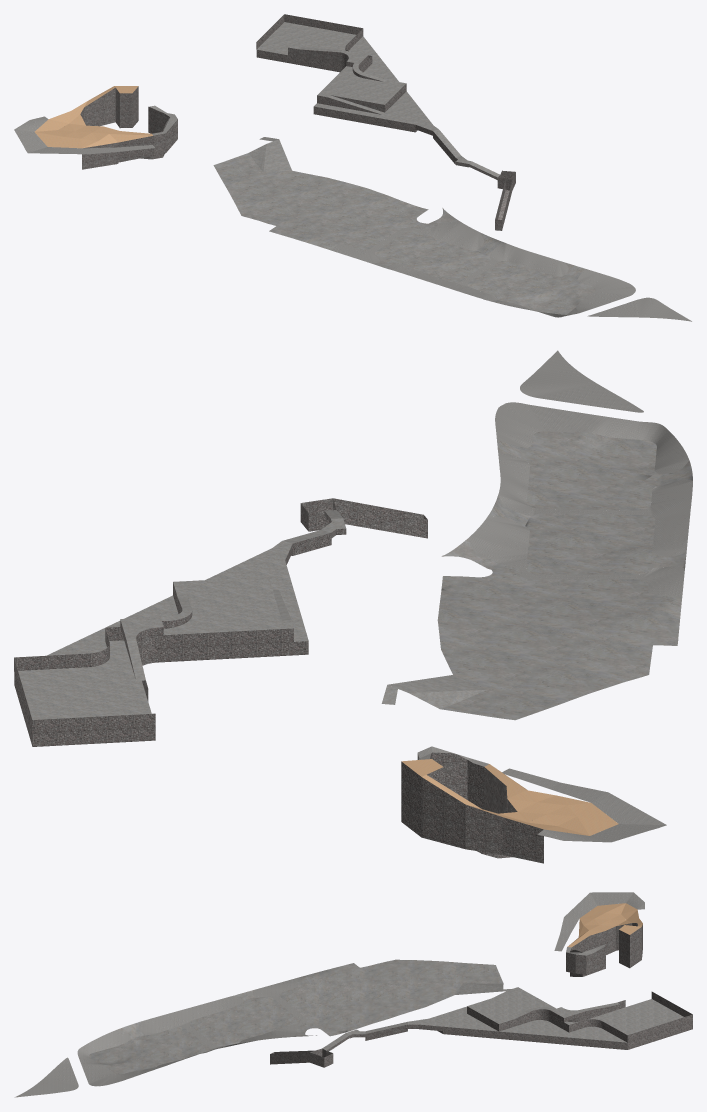
The picture shows the model from 3 angles, top to bottom: view 1: azimuth 30°, elevation 25°; view 2: azimuth 150°, elevation 25°; view 3: azimuth 270°, elevation 25°; orthographic projection. The views are drawn at different scales.
Visible parts, largest first — view 1: LXZ81002 (×2), LXZ81003 (×2), _9101cd0195, LXZ81001, _9101cd0269; view 2: LXZ81002 (×2), LXZ81003 (×2), _9101cd0195, LXZ81001, _9101cd0269; view 3: LXZ81002 (×2), LXZ81003 (×2), _9101cd0195, LXZ81001, _9101cd0269.
Part boxes in pixels (box(x1,y1,x2,y2)): LXZ81002 (×2): box(149, 22, 595, 314); LXZ81003 (×2): box(80, 14, 515, 230); _9101cd0195: box(331, 221, 691, 321); LXZ81001: box(34, 86, 152, 148); _9101cd0269: box(14, 116, 278, 154); LXZ81002 (×2): box(18, 431, 692, 766); LXZ81003 (×2): box(14, 498, 543, 863); _9101cd0195: box(469, 350, 692, 596); LXZ81001: box(402, 759, 618, 835); _9101cd0269: box(381, 685, 666, 842); LXZ81002 (×2): box(88, 944, 683, 1074); LXZ81003 (×2): box(270, 923, 692, 1067); _9101cd0195: box(14, 979, 307, 1097); LXZ81001: box(567, 903, 642, 947); _9101cd0269: box(503, 892, 644, 991).
Size of the model in its own units: 295 by 498 by 51.63.
5 materials, 5 textured.
